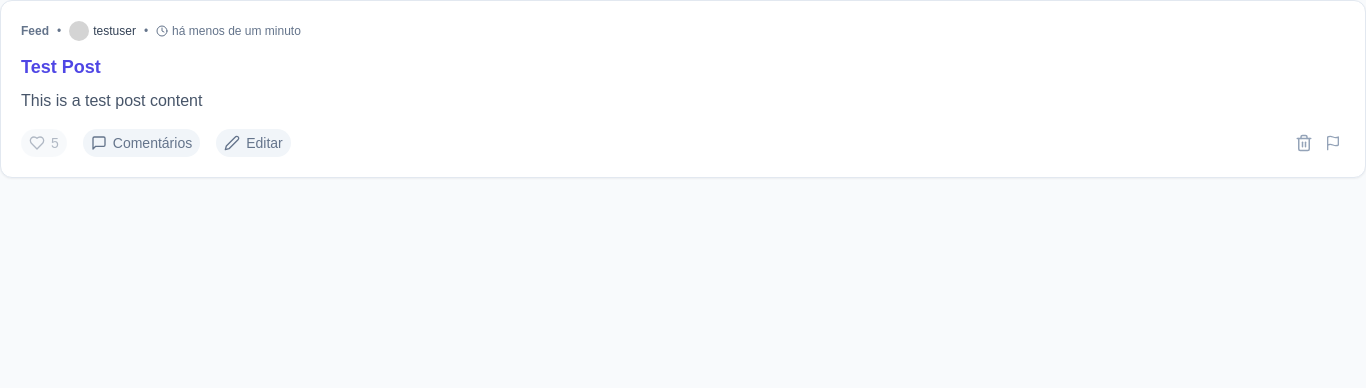
FeedPostCard › enters edit mode when edit button is clicked
Click the button "Editar".
click(254, 143)  # box [216, 129, 291, 157]
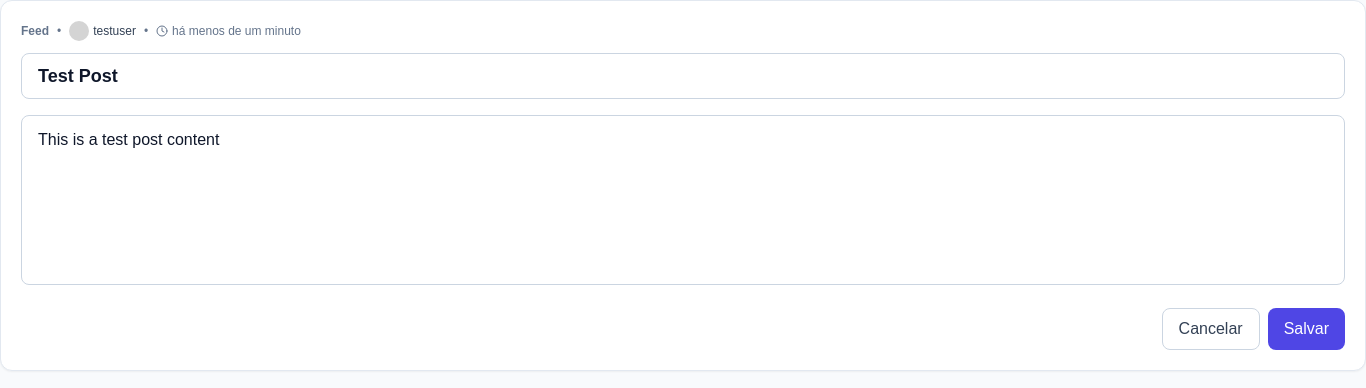
Now the field showing "Test Post" is shown, box [21, 53, 1345, 99]
Now the text box showing "This is a test post content" is shown, box [21, 115, 1345, 285]
Now the button "Salvar" is shown, box [1268, 308, 1345, 350]
